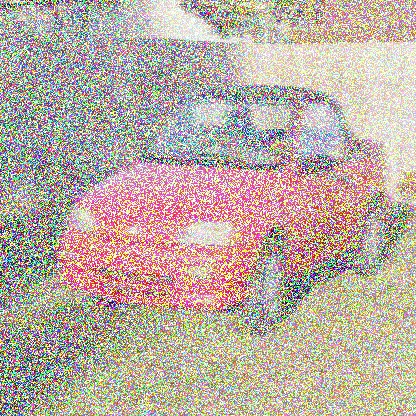Vehicle: (57, 84, 390, 338)
